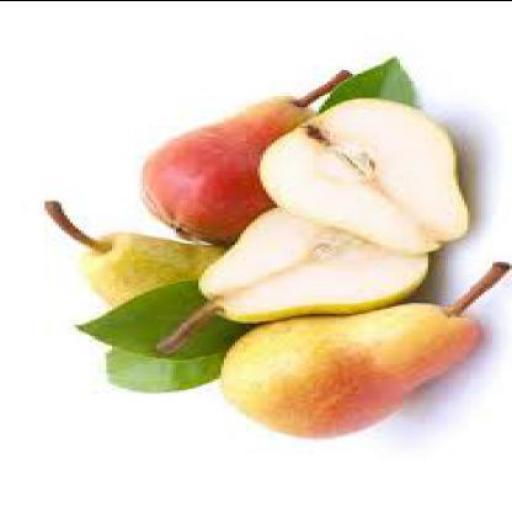biodegradable: (215, 265, 506, 437), (154, 205, 431, 354), (134, 70, 350, 246), (255, 99, 470, 257), (39, 199, 224, 311), (70, 281, 246, 363), (101, 346, 224, 394), (313, 56, 414, 114)
